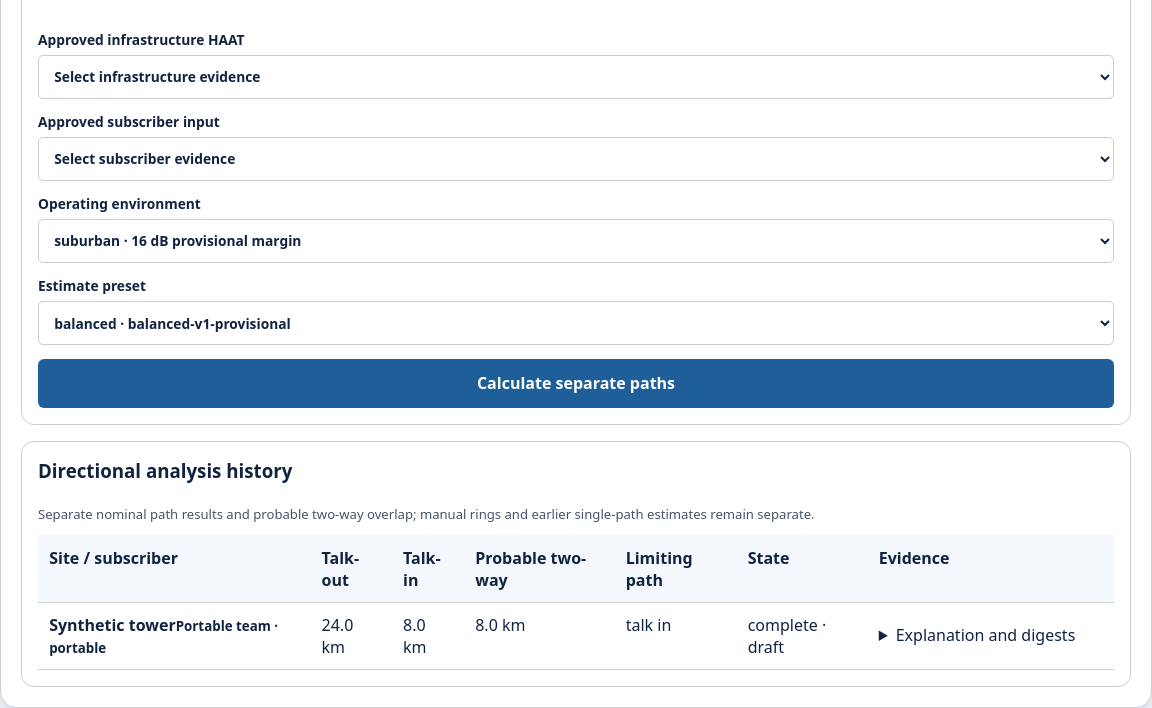
keeps approval disabled when the directional rule is not approved
The width and height of the screenshot is (1152, 708).
(page scrolled)
Click the heading "Explanation and digests" at (986, 635), box [896,624,1075,646]
(page scrolled)
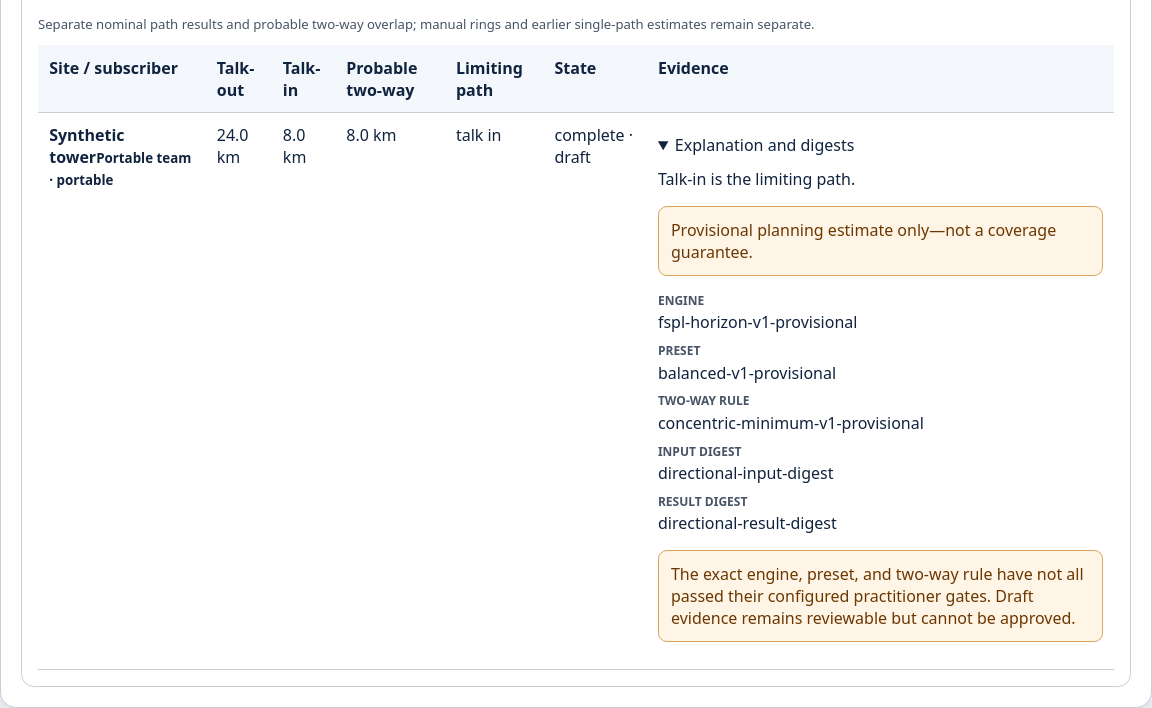
Now the text "have not all passed their configured practitioner gates" is shown, box [671,563,1084,629]
